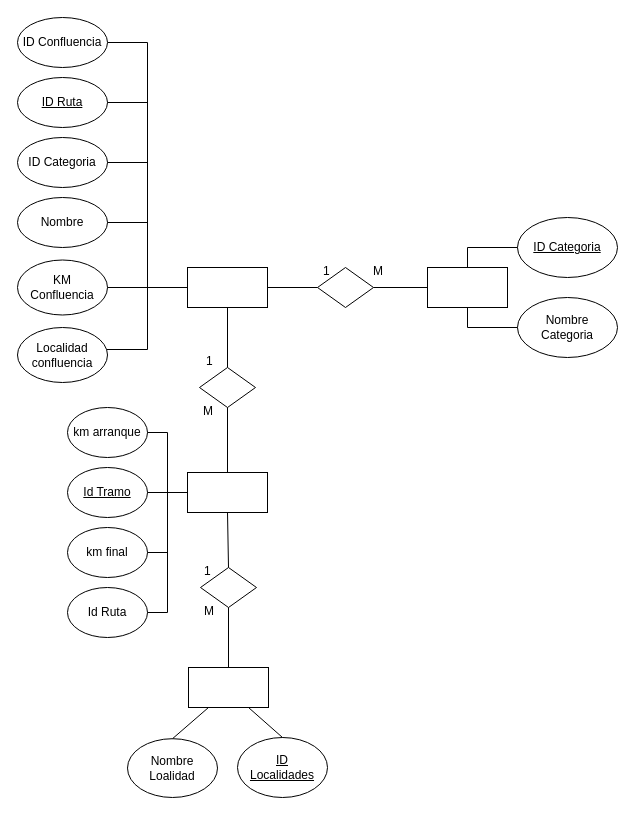
Some shapes in this 635 by 815 pixel diagram are drawn without their labels. The shapes that lost their labels are listed below. From the top down, each one's box as (x1, y1, x2, y2) in pixels, then its label:
(186, 266, 268, 308): Rutas
(426, 266, 508, 308): Categoria
(186, 472, 268, 512): Tramo
(188, 666, 268, 708): Localidades
